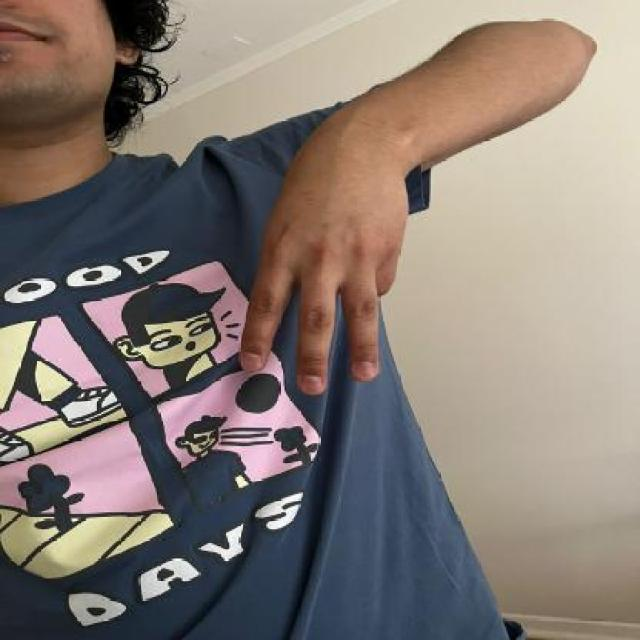M: (236, 118, 410, 394)
